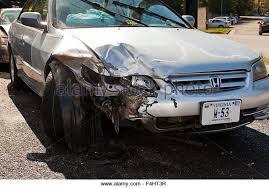Broken-glass: (82, 68, 157, 93)
Smashed: (79, 42, 158, 136)
